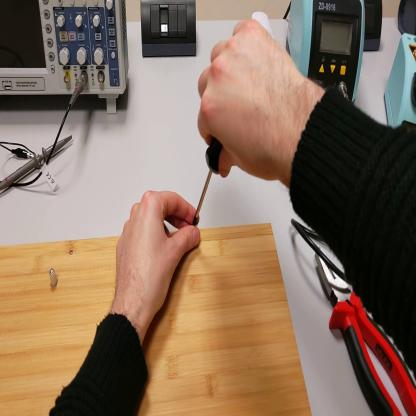hand: (195, 20, 302, 188), (113, 190, 201, 321)
oscilloscope: (2, 1, 131, 117)
oscilloscope probe tip: (2, 135, 71, 193)
pliers: (319, 252, 416, 416)
screwdriver-: (194, 135, 226, 225)
socket: (364, 3, 384, 54), (397, 1, 416, 38)
welder base: (383, 34, 416, 135)
welder station: (288, 2, 366, 108)
working area: (2, 223, 312, 415)
